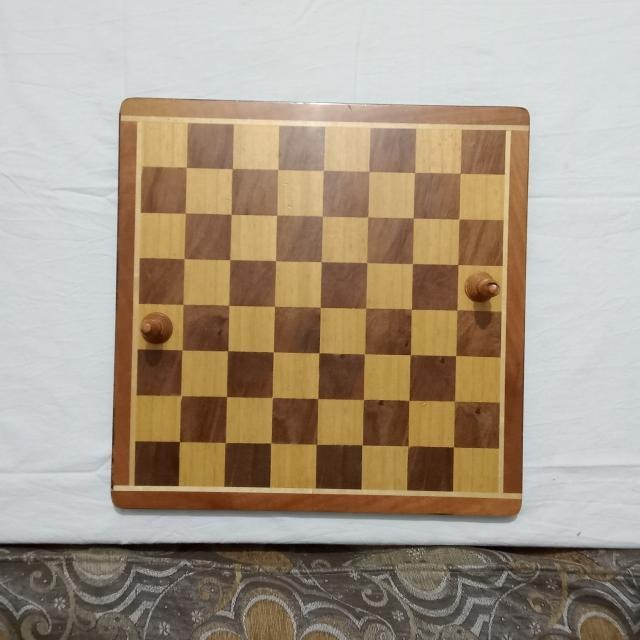white-bishop: (138, 309, 175, 346), (462, 271, 501, 303)
